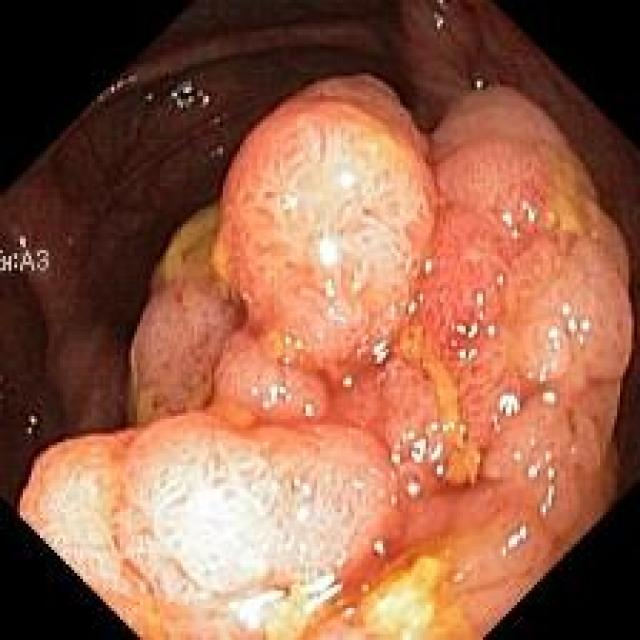Polyps: (20, 76, 632, 639)
